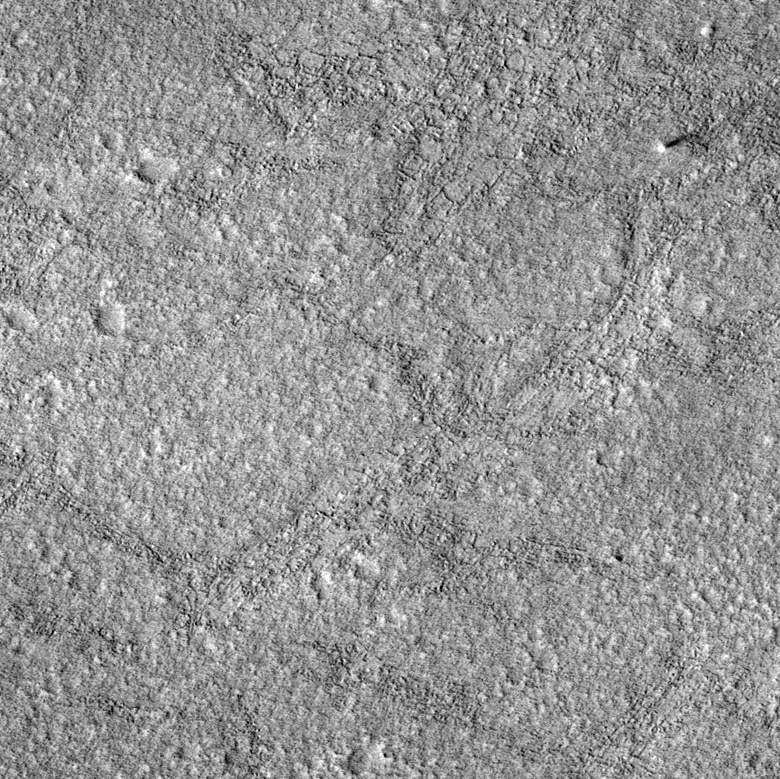dust_devil: (655, 128, 710, 154)
